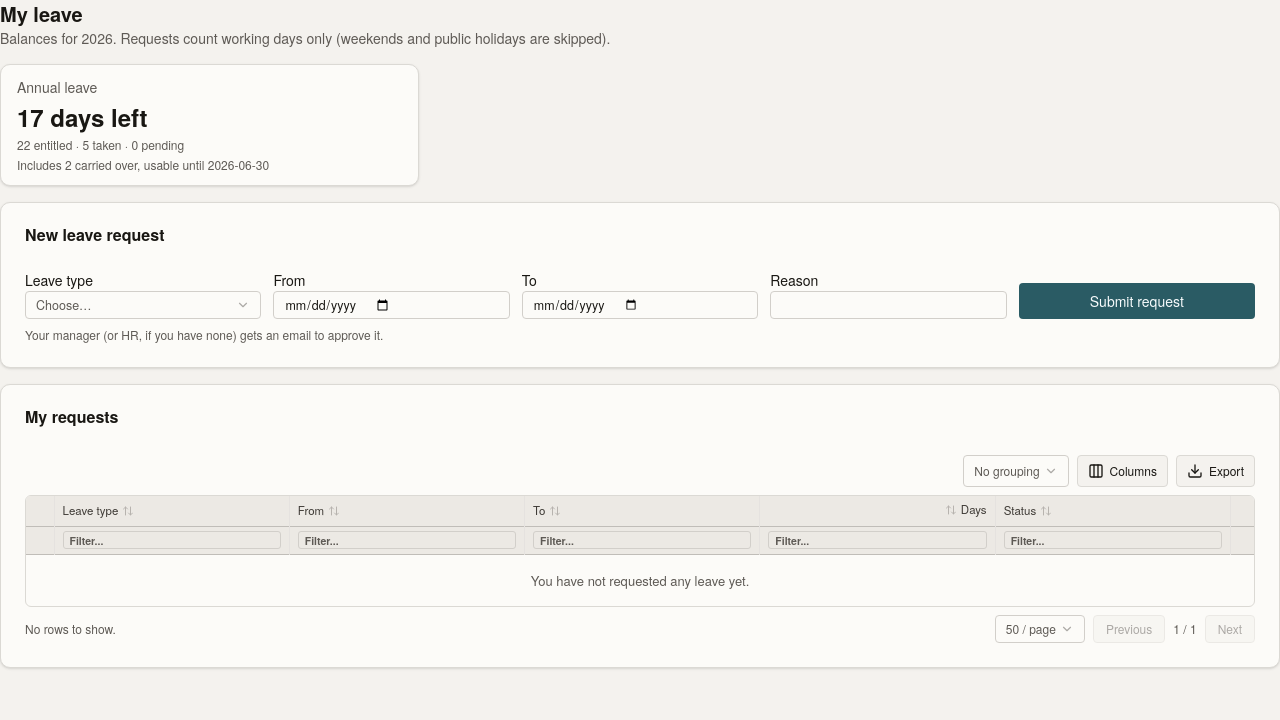
My leave › shows balances with carried-over days and submits a request
The width and height of the screenshot is (1280, 720).
Check: the text "17 days left" is shown, box [17,100,148,134]
Check: the text "Includes 2 carried over, usable until 2026-06-30" is shown, box [17,156,269,173]
Click the button "Submit request" at (1137, 301), box [1019,283,1255,319]
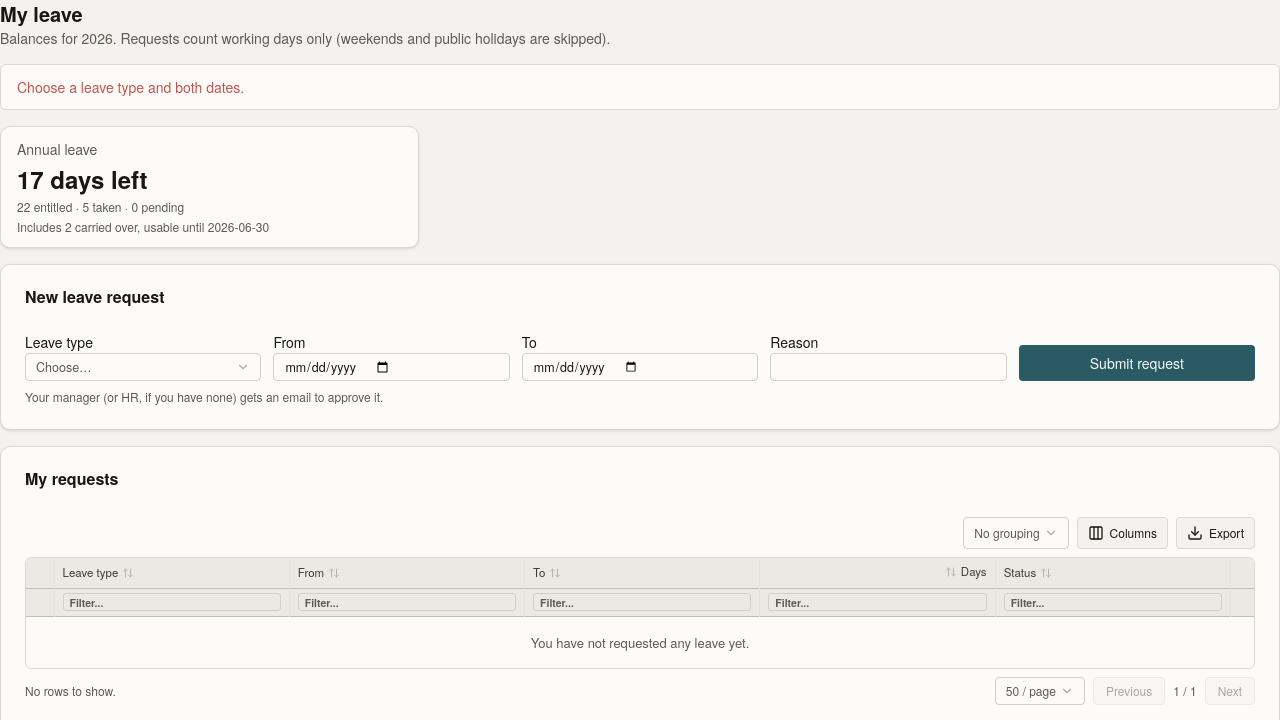
Check: the text "Choose a leave type and both dates." is shown, box [17,77,244,97]
